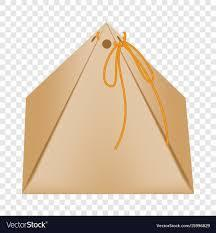Cardboard: (27, 28, 216, 212)
